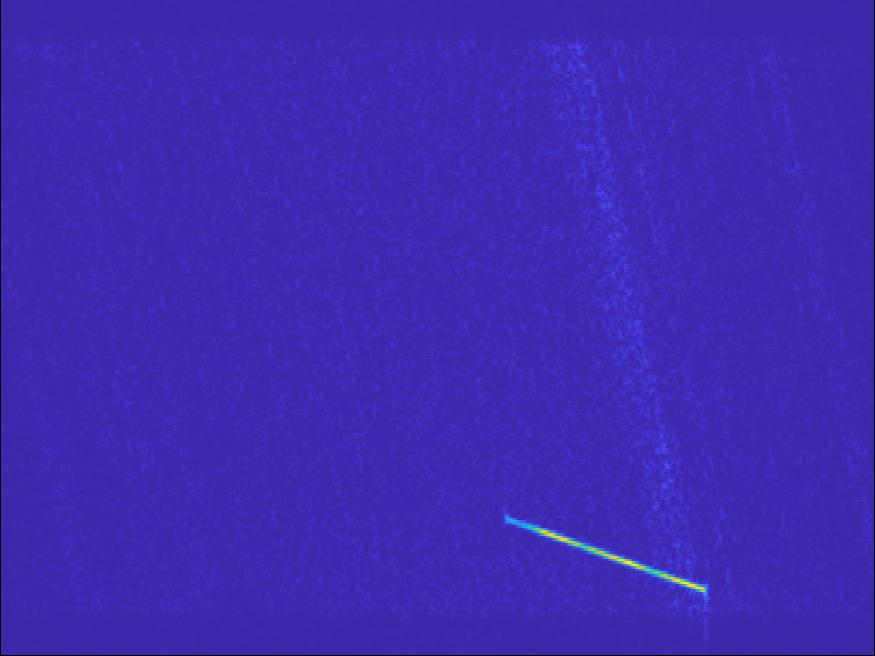Interference: (1, 325, 211, 498), (12, 291, 234, 353), (694, 244, 780, 292)
